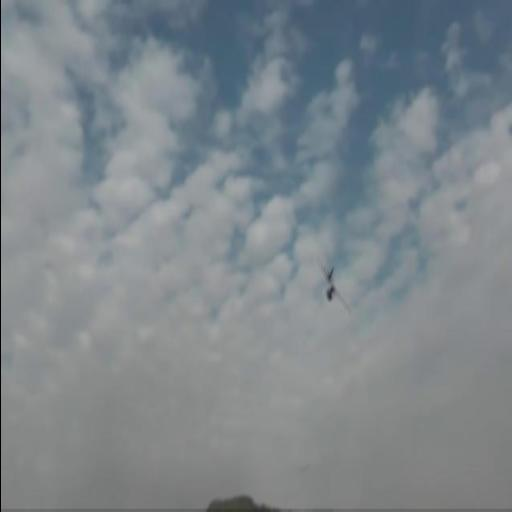uav: (316, 257, 350, 316)
